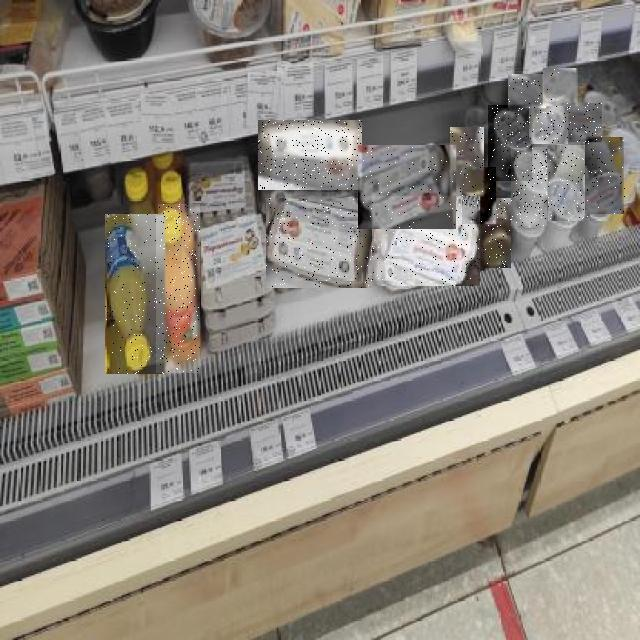Eggs: (266, 198, 374, 288), (372, 196, 480, 286), (106, 214, 166, 374), (358, 145, 456, 229), (258, 121, 362, 191), (158, 204, 200, 373), (488, 105, 532, 181), (548, 145, 590, 221), (586, 137, 626, 214), (511, 148, 547, 228), (475, 198, 511, 268), (450, 127, 484, 196), (462, 167, 496, 224), (529, 105, 568, 144), (564, 103, 602, 142), (544, 68, 580, 106), (508, 74, 546, 108)
